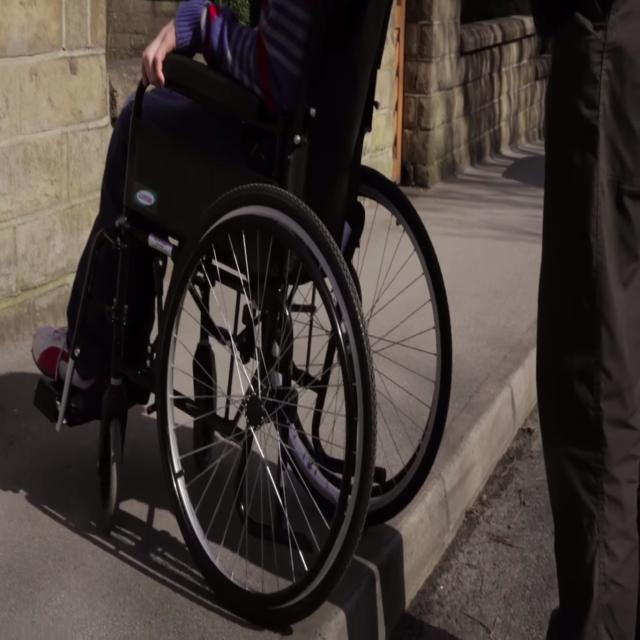wheelchairs: (62, 5, 450, 633)
